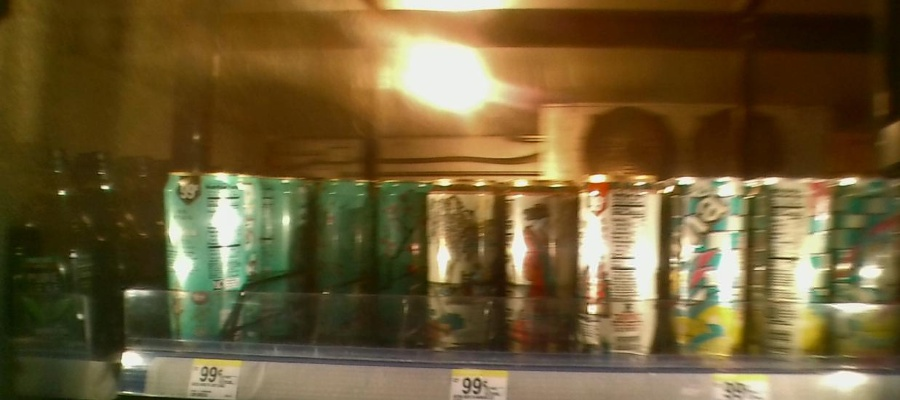bottle: (577, 167, 664, 366), (668, 167, 751, 374), (754, 169, 835, 374), (164, 166, 249, 358), (426, 174, 502, 353), (504, 173, 576, 360), (838, 166, 899, 372), (311, 169, 375, 351), (378, 176, 424, 332)
